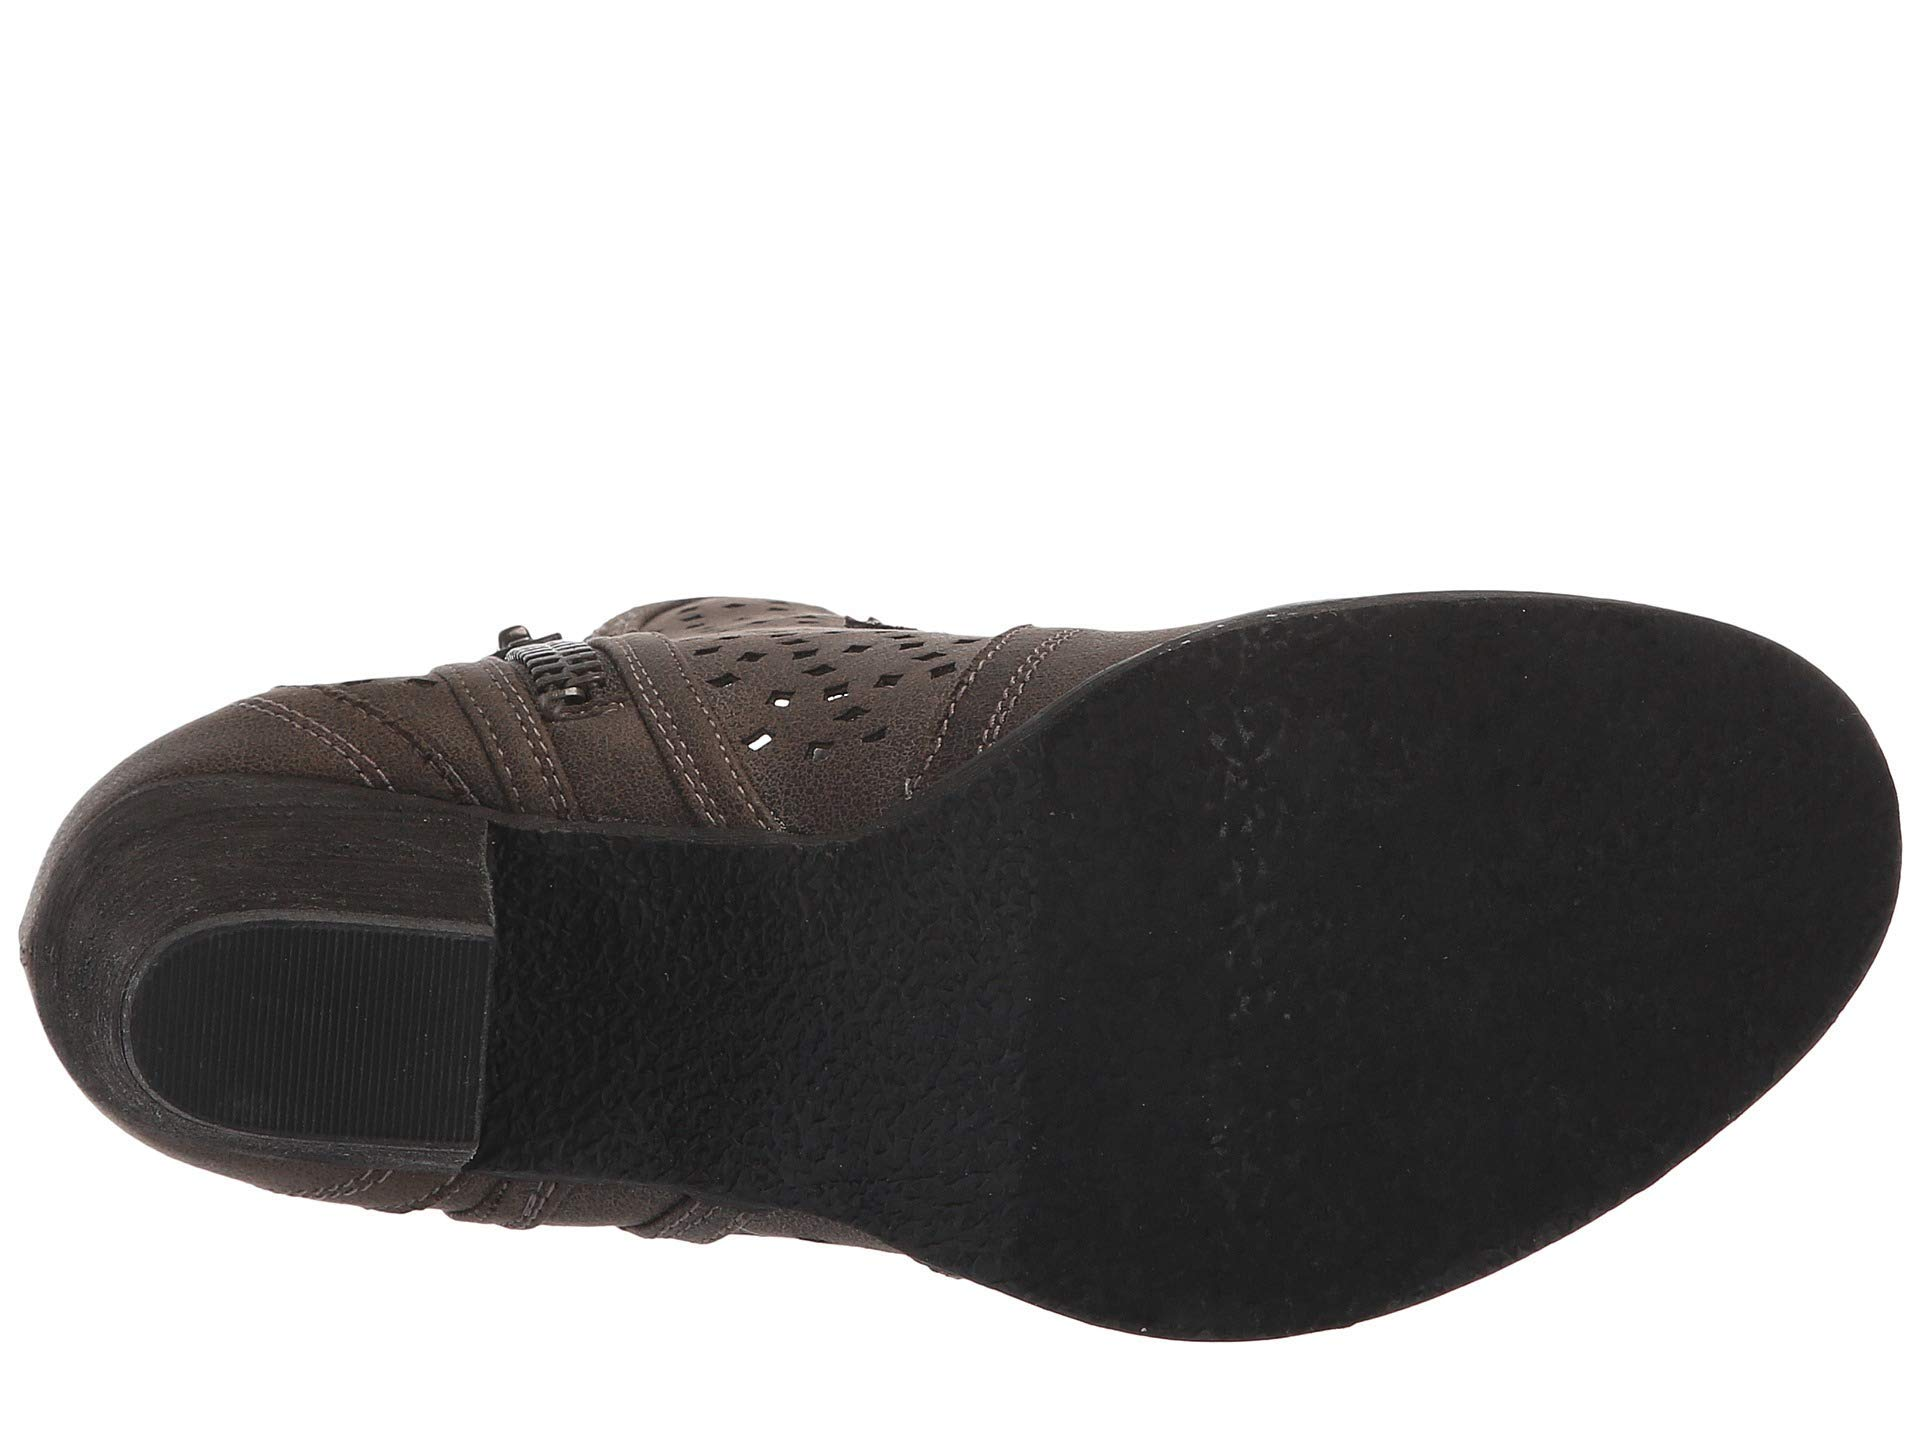line: (180, 954, 478, 1101)
other: (1129, 696, 1522, 1110)
